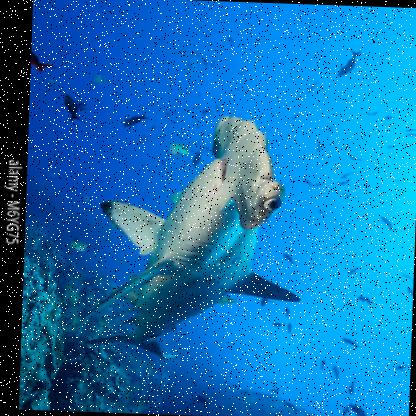hammerhead_Shark: (78, 107, 328, 365)
